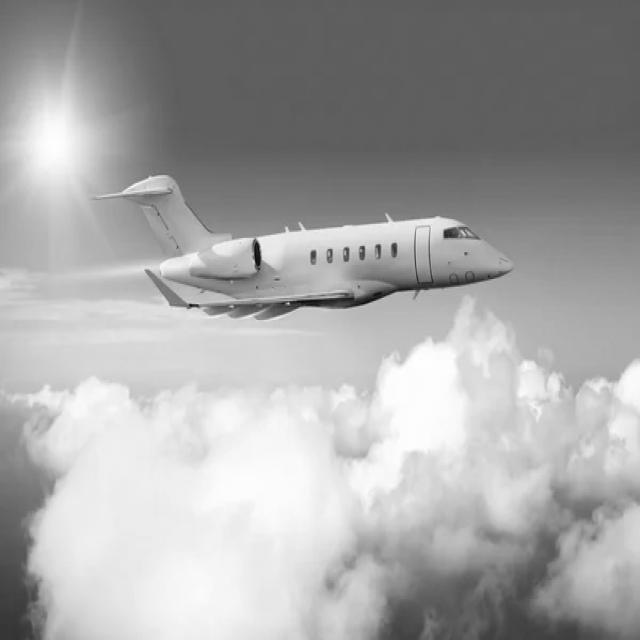Aircraft: (86, 156, 523, 321)
